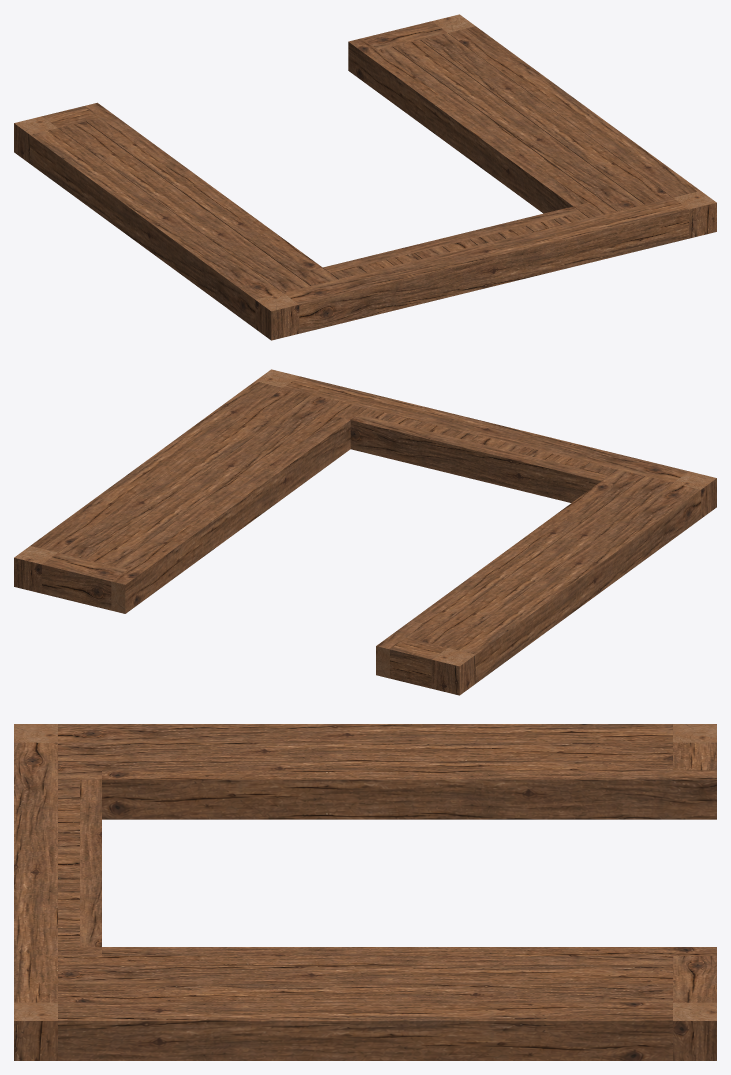
File: TimberFloorStairwell_4.00Wx0.25Hx4.00D.fbx
The picture shows the model from 3 angles, top to bottom: view 1: azimuth 30°, elevation 25°; view 2: azimuth 150°, elevation 25°; view 3: azimuth 270°, elevation 25°; orthographic projection. The views are drawn at different scales.
Parts seen in each view (by area): view 1: Modular_TimberFloorStairwell_Export; view 2: Modular_TimberFloorStairwell_Export; view 3: Modular_TimberFloorStairwell_Export.
Part boxes in pixels (<box>): Modular_TimberFloorStairwell_Export: <box>14,14,716,340</box>; Modular_TimberFloorStairwell_Export: <box>14,369,716,695</box>; Modular_TimberFloorStairwell_Export: <box>14,724,716,1060</box>.
Size of the model in its own units: 4 by 0.25 by 4.
